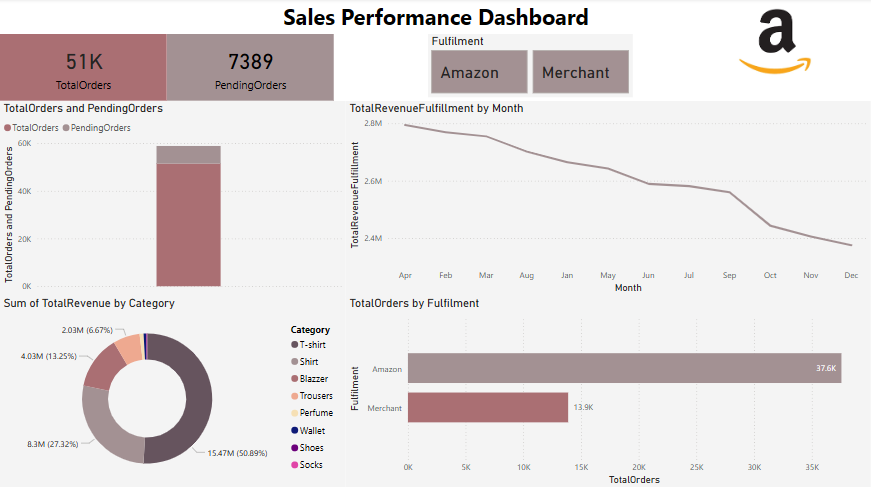

What the dashboard file says about the page in this screenshot:
{"tool":"powerbi","page":{"name":"Dashboard 2","canvas":[1280,720],"ordinal":1},"visuals":[{"type":"textbox","box":[146.9,0,987.4,52.9],"z":0},{"type":"image","box":[997.7,0,282.1,127.8],"z":1000},{"type":"advancedSlicerVisual","fields":{"Values":["Amazon Sale Report (2).Fulfilment"]},"box":[628.9,52.9,301.2,92.6],"z":2000},{"type":"lineChart","fields":{"Category":["Amazon Sale Report (2).Month"],"Y":["Amazon Sale Report (2).TotalRevenueFulfillment"]},"box":[508.4,151.3,771.4,286.5],"z":3000},{"type":"donutChart","fields":{"Category":["Amazon Sale Report (2).Category"],"Y":["Sum(Amazon Sale Report (2).TotalRevenue)"]},"box":[0,437.9,508.4,282.1],"z":4000},{"type":"barChart","fields":{"Category":["Amazon Sale Report (2).Fulfilment"],"Y":["Amazon Sale Report (2).TotalOrders"]},"box":[508.4,437.9,771.4,282.1],"z":5000},{"type":"card","fields":{"Values":["Amazon Sale Report (2).TotalOrders"]},"box":[0,52.9,245.4,98.4],"z":6000},{"type":"card","fields":{"Values":["Amazon Sale Report (2).PendingOrders"]},"box":[245.4,52.9,245.4,98.4],"z":7000},{"type":"columnChart","fields":{"Y":["Amazon Sale Report (2).TotalOrders","Amazon Sale Report (2).PendingOrders"]},"box":[0,151.3,508.4,286.5],"z":8000}]}

Visuals, with their boxes in screenshot pixels (x1, y1, x2, y2), scaled from the page's 1280x720 canvas onto the 871x487 screenshot:
textbox: BBox(100, 0, 772, 36)
image: BBox(679, 0, 870, 86)
advancedSlicerVisual - Amazon Sale Report (2).Fulfilment: BBox(428, 36, 633, 98)
lineChart - Amazon Sale Report (2).Month x Amazon Sale Report (2).TotalRevenueFulfillment: BBox(346, 102, 870, 296)
donutChart - Amazon Sale Report (2).Category x Sum(Amazon Sale Report (2).TotalRevenue): BBox(0, 296, 346, 486)
barChart - Amazon Sale Report (2).Fulfilment x Amazon Sale Report (2).TotalOrders: BBox(346, 296, 870, 486)
card - Amazon Sale Report (2).TotalOrders: BBox(0, 36, 167, 102)
card - Amazon Sale Report (2).PendingOrders: BBox(167, 36, 334, 102)
columnChart - Amazon Sale Report (2).TotalOrders x Amazon Sale Report (2).PendingOrders: BBox(0, 102, 346, 296)
